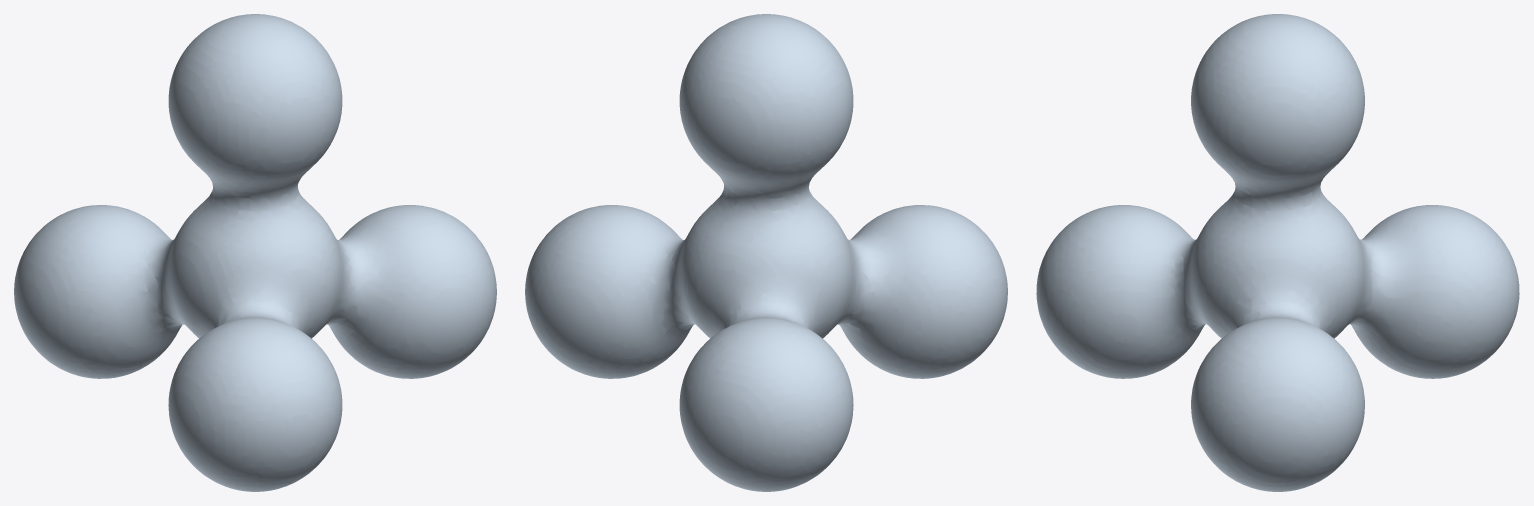
File: tetra_balls.obj
The picture shows the model from 3 angles, left to right: view 1: azimuth 30°, elevation 25°; view 2: azimuth 150°, elevation 25°; view 3: azimuth 270°, elevation 25°; orthographic projection.
Parts seen in each view (by area): view 1: Mball.001_Mesh; view 2: Mball.001_Mesh; view 3: Mball.001_Mesh.
Boxes of the visible parts, left/top/right/bottom form: Mball.001_Mesh: left=14, top=14, right=496, bottom=491; Mball.001_Mesh: left=525, top=14, right=1007, bottom=491; Mball.001_Mesh: left=1036, top=14, right=1519, bottom=491.
Size of the model in its own units: 5.83 by 5.63 by 6.38.
